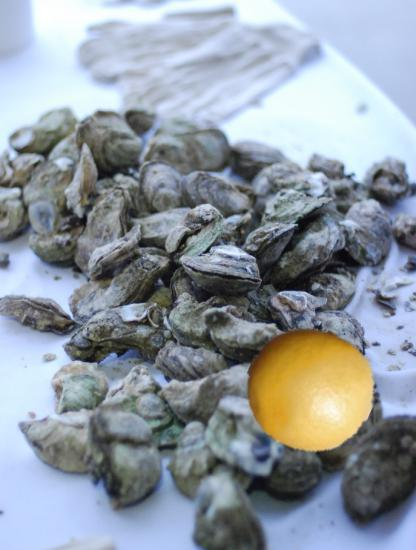Grapefruit: (246, 325, 375, 454)
